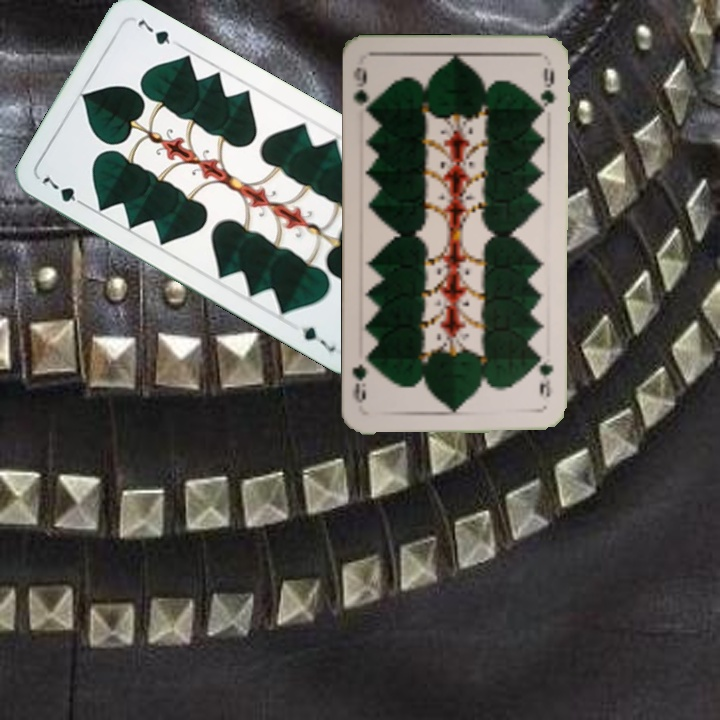G7: (38, 170, 90, 211)
G9: (349, 63, 376, 118), (534, 350, 556, 400)
